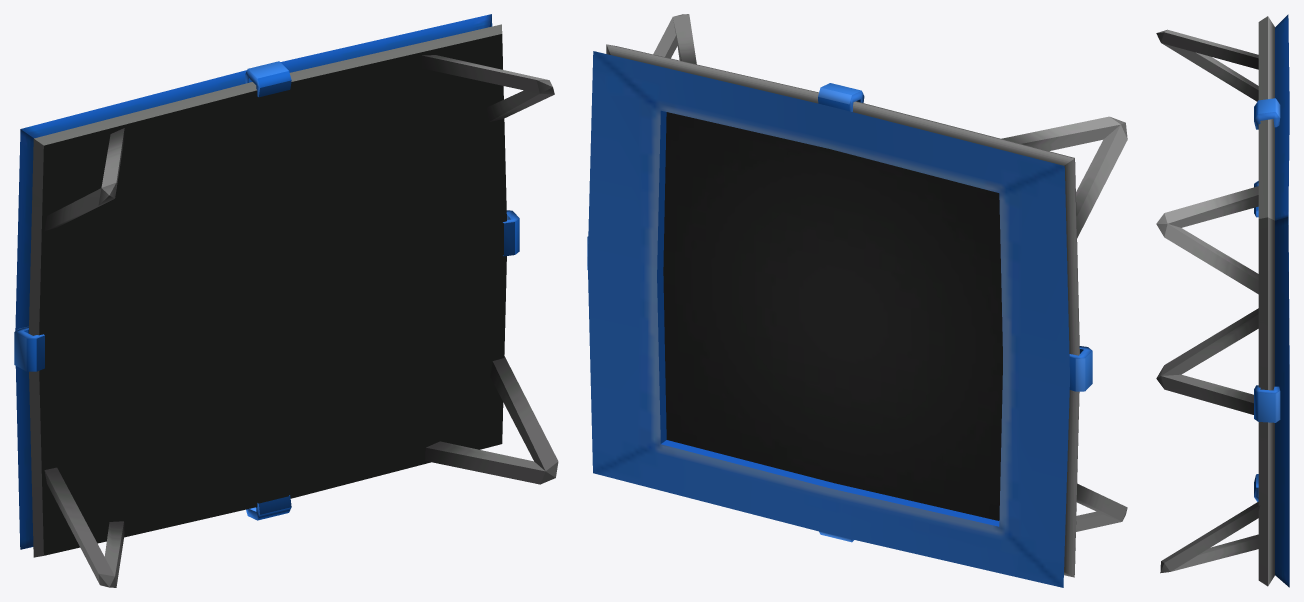
Rendered from TrampolineUpraised.fbx.
3 renders of one model, left to right at view 1: azimuth 30°, elevation 25°; view 2: azimuth 150°, elevation 25°; view 3: azimuth 270°, elevation 25°, orthographic. The views are drawn at different scales.
Visible parts, largest first — view 1: TrampolineUpraised; view 2: TrampolineUpraised; view 3: TrampolineUpraised.
Part boxes in pixels (<box>): TrampolineUpraised: <box>14,14,558,587</box>; TrampolineUpraised: <box>587,14,1127,587</box>; TrampolineUpraised: <box>1156,14,1289,587</box>.
Bounding box in the file's own units: 253 × 217 × 66.72.
